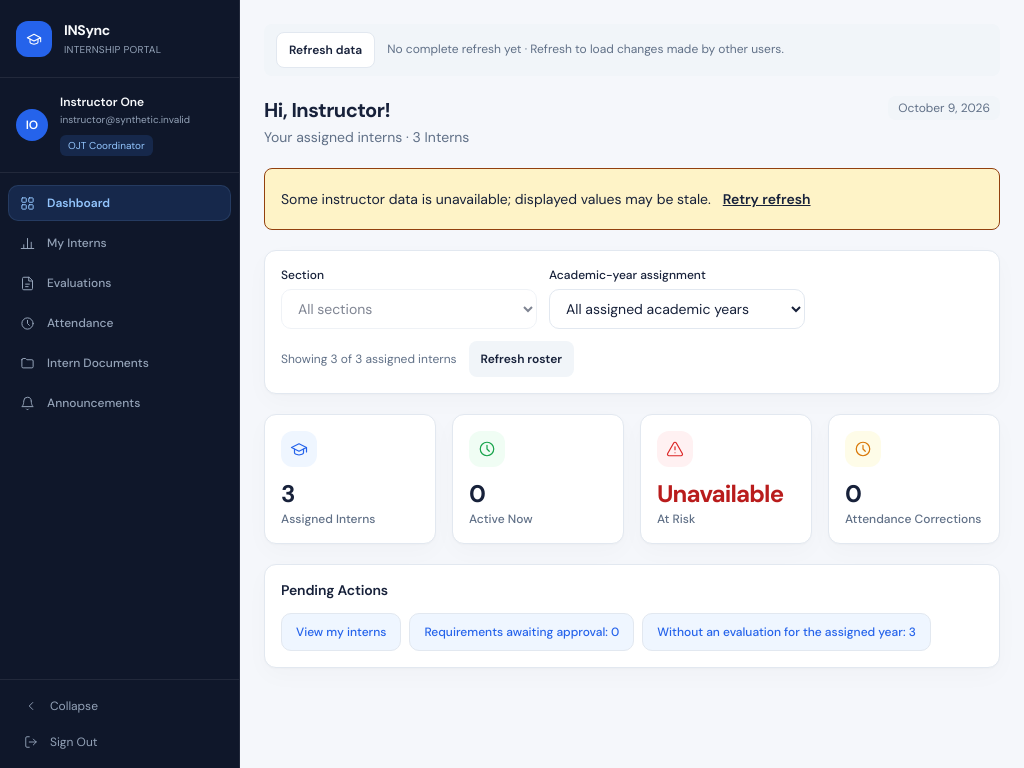
Test: keeps the roster visible when section lookup fails and recovers on refresh
Click the button "My Interns": (120, 243) [8,225,231,261]
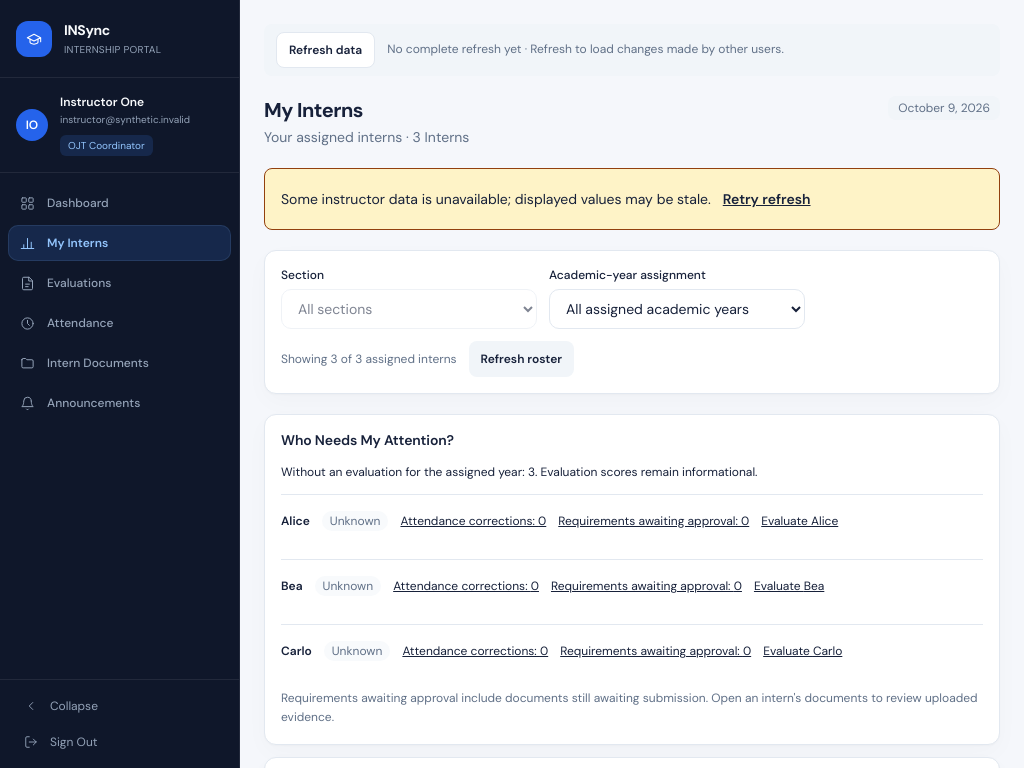
Expected: the dropdown with id "instructor-section-filter" is disabled, [281,289,537,329]
Expected: the message shows "Some instructor data is unavailable", [281,190,711,208]
Click the button "Refresh roster": (521, 359) [469,341,574,377]
(page scrolled)
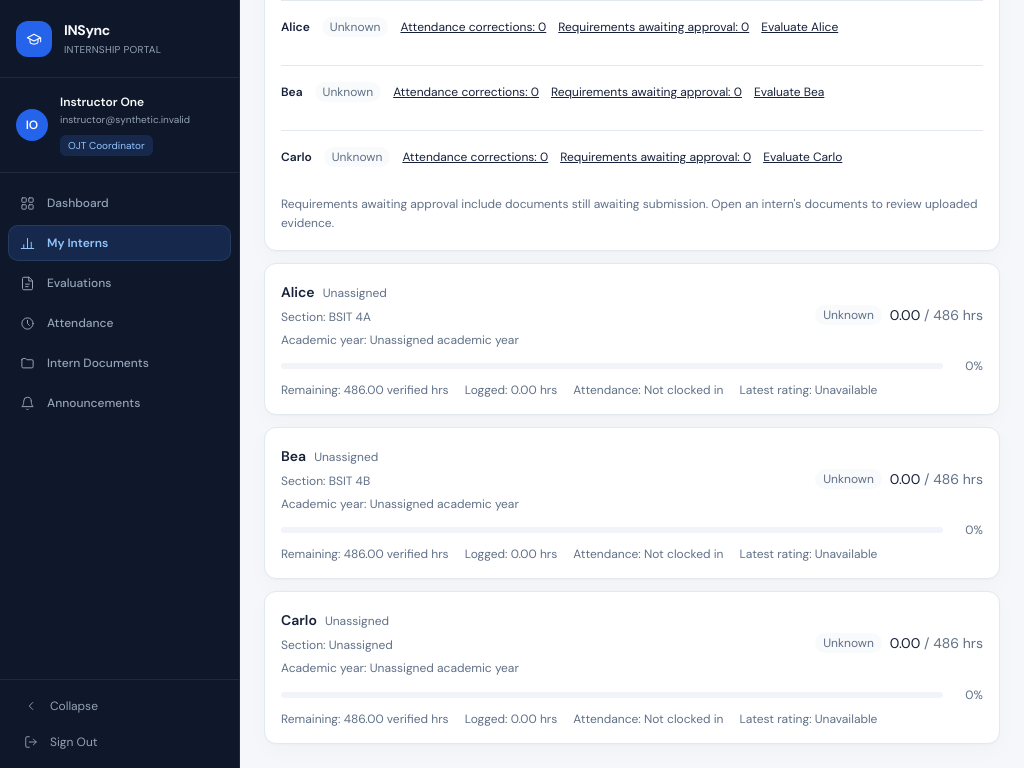
Expected: the element named "Assigned intern progress" shows "BSIT 4A", [329,308,371,324]
Expected: the message is gone
